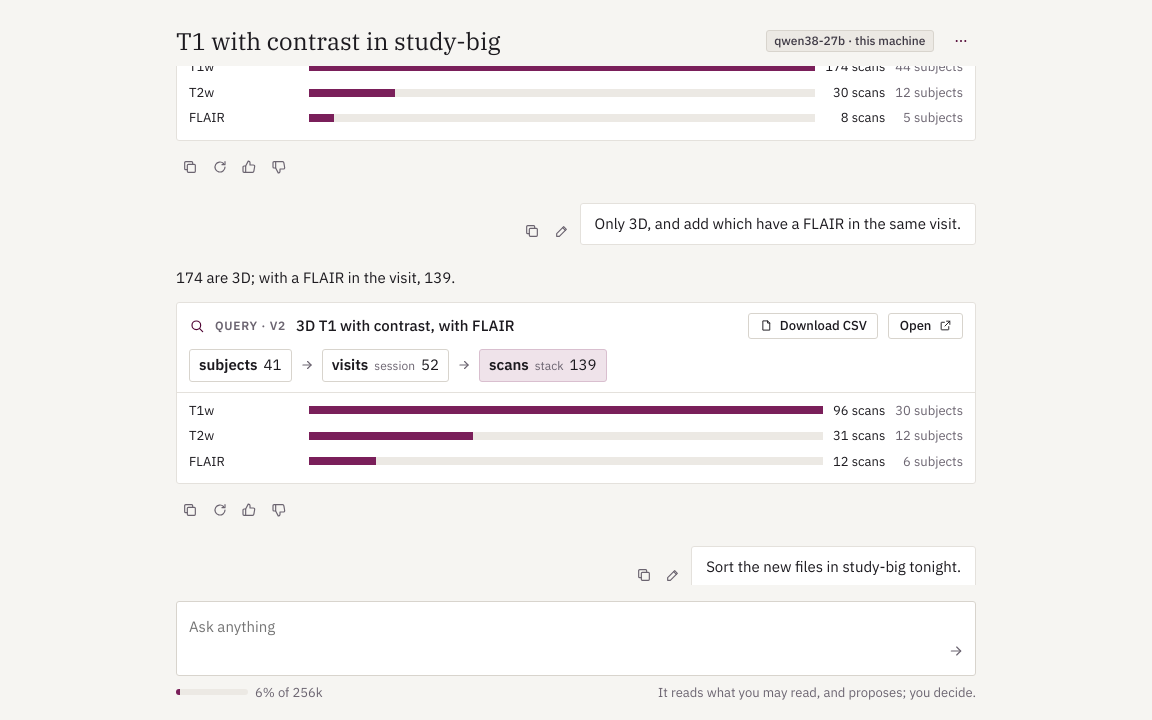
Scenario: keeping a draft the assistant proposed › puts a kept card back among the drafts with Unkeep, deletes nothing, and keeps it again without deciding twice
(page scrolled)
Click the button "Open". click: (926, 326)
box: x1=888 y1=313 x2=963 y2=339
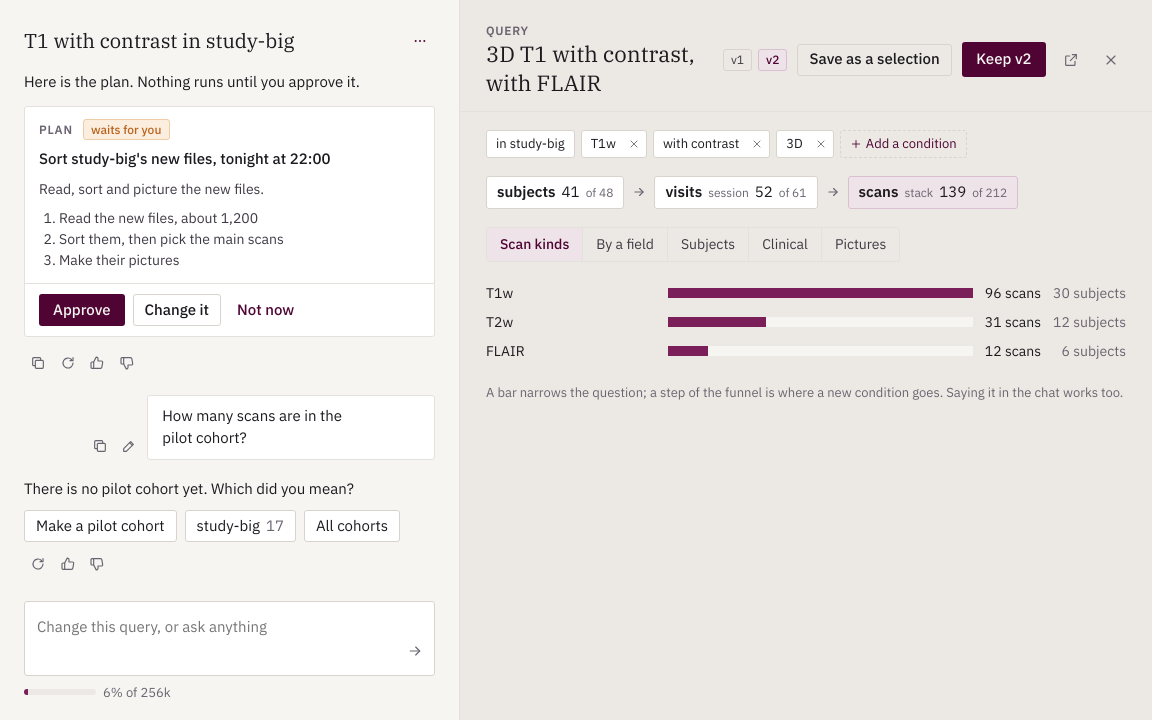
Click the button "Keep v2". click: (1004, 60)
box: x1=962 y1=42 x2=1046 y2=77
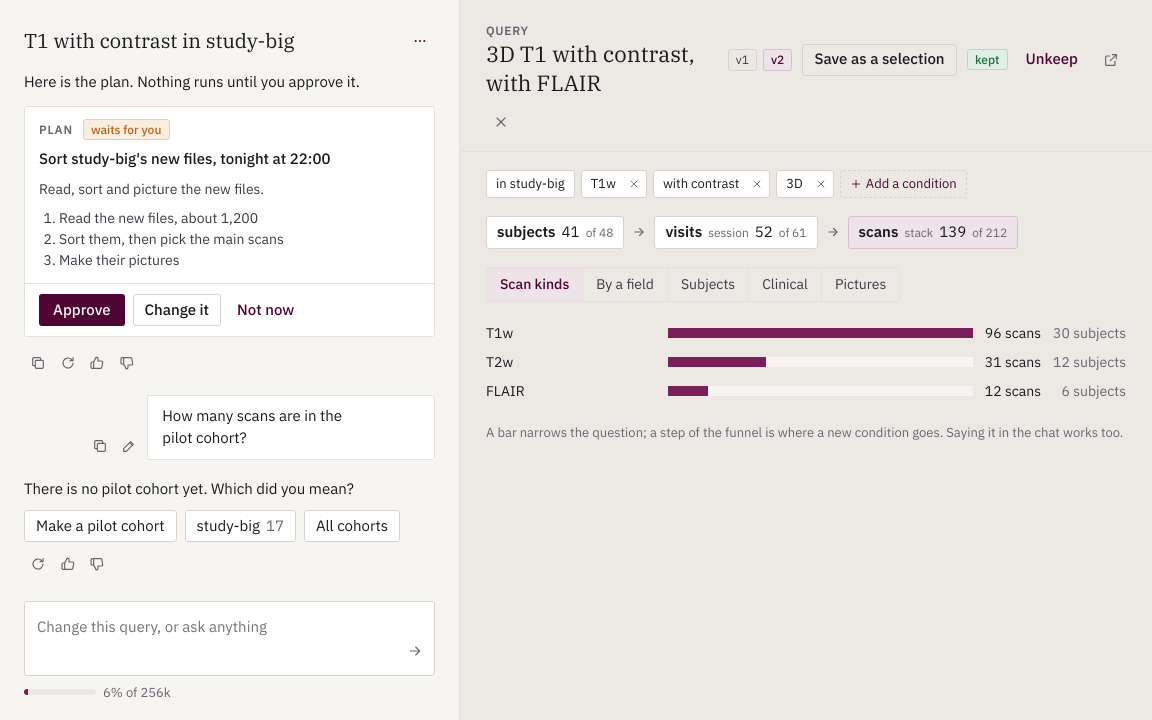
Click the button "Unkeep". click: (1052, 60)
box: x1=1018 y1=44 x2=1086 y2=76
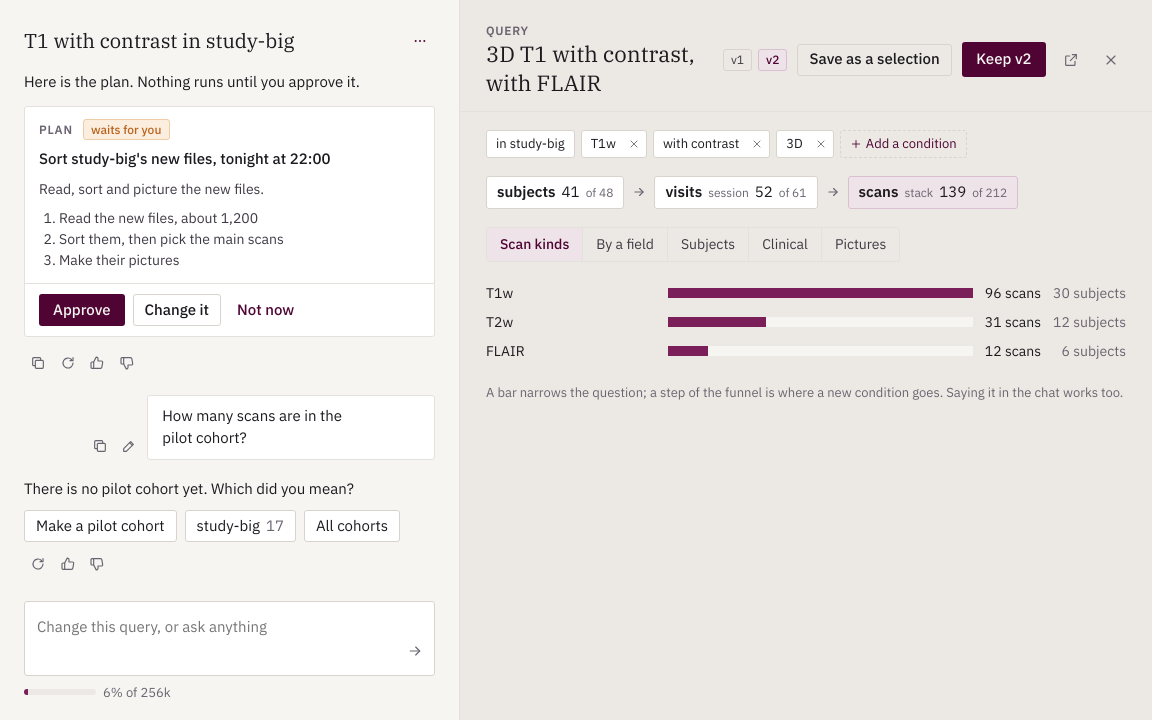
Check: the button "Keep v2" is shown, box x1=962 y1=42 x2=1046 y2=77
Check: the text with class "tag" is gone
Click the button named "Close the query". click: (1111, 60)
box: x1=1096 y1=45 x2=1126 y2=75
(page scrolled)
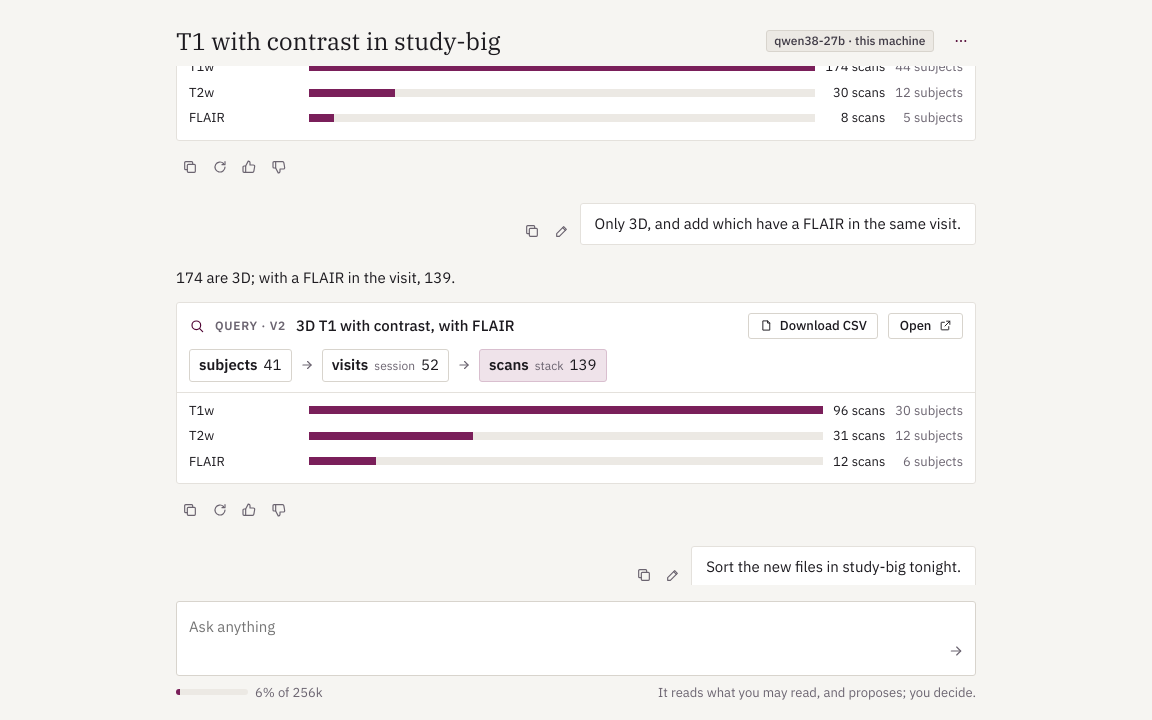
Click the button "Open". click: (926, 326)
box: x1=888 y1=313 x2=963 y2=339
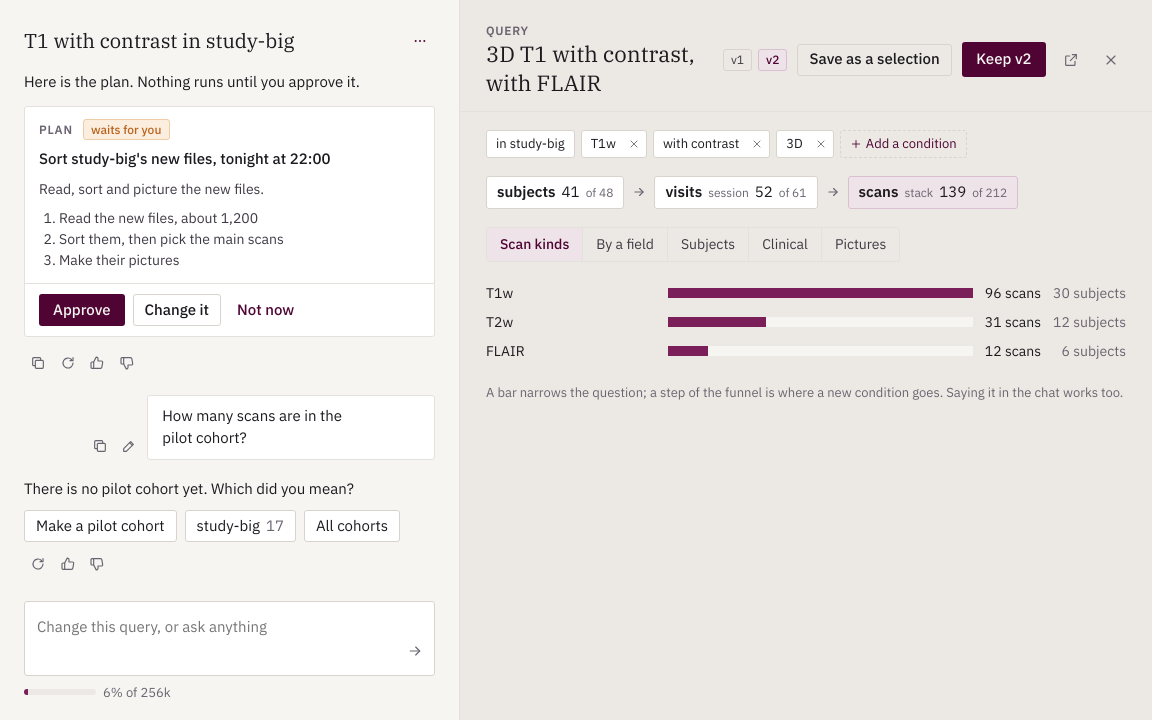
Click the button "Keep v2". click: (1004, 60)
box: x1=962 y1=42 x2=1046 y2=77
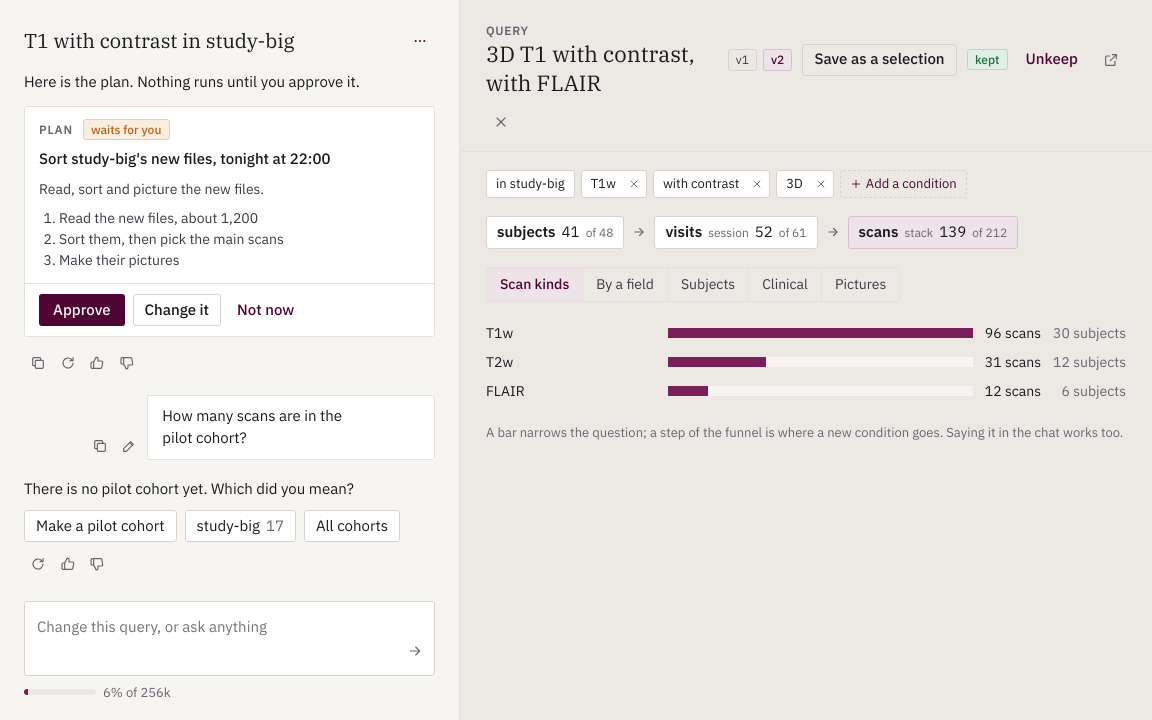
Check: the text with class "tag" reads "kept", box x1=975 y1=52 x2=999 y2=67
